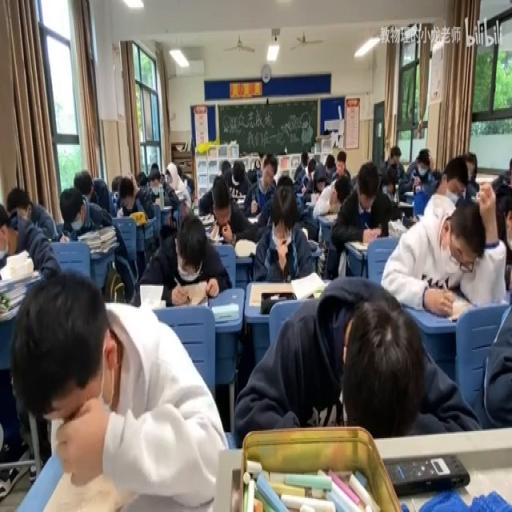calculator: (39, 466, 133, 510), (77, 224, 117, 254), (249, 282, 293, 307), (290, 268, 326, 298), (0, 267, 38, 294), (444, 296, 476, 321), (140, 283, 166, 307), (210, 300, 238, 322), (0, 294, 22, 320), (234, 236, 256, 256), (197, 213, 214, 235), (158, 202, 173, 225), (388, 218, 406, 236), (346, 240, 370, 252), (320, 213, 338, 225), (232, 195, 246, 205), (398, 201, 414, 209), (246, 216, 260, 225), (306, 199, 316, 208), (301, 227, 307, 239)
paper: (11, 266, 223, 508), (234, 273, 476, 440), (379, 176, 504, 313), (138, 210, 227, 306), (330, 162, 399, 273), (252, 184, 316, 282), (473, 283, 512, 428), (2, 191, 60, 283), (198, 171, 261, 243), (402, 146, 436, 205), (142, 162, 178, 213), (74, 168, 110, 218), (434, 154, 468, 199), (378, 145, 404, 196), (301, 164, 331, 206), (489, 156, 510, 194), (117, 178, 138, 210), (293, 152, 308, 184), (334, 150, 350, 180), (464, 150, 477, 180), (245, 158, 260, 182), (334, 183, 350, 205), (497, 195, 511, 220), (6, 204, 18, 228), (183, 175, 194, 200), (276, 175, 294, 189), (428, 168, 442, 186), (231, 165, 243, 185), (112, 174, 122, 196), (220, 158, 230, 179), (325, 155, 334, 176), (134, 171, 146, 186), (259, 152, 266, 172), (389, 165, 397, 181), (176, 164, 183, 179), (428, 154, 434, 170), (508, 158, 512, 179), (166, 175, 171, 186)
person: (384, 452, 470, 494), (402, 214, 418, 228), (307, 239, 319, 252), (507, 265, 512, 290)
